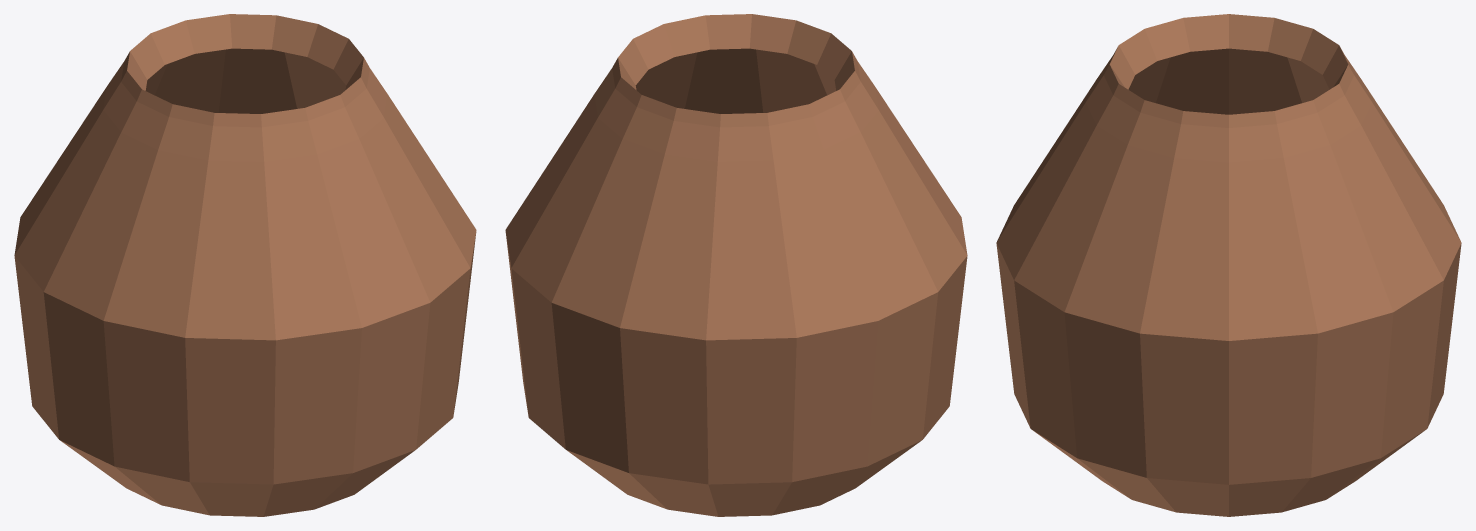
Rendered from jar.glb.
3 views of the same model, side by side, from view 1: azimuth 30°, elevation 25°; view 2: azimuth 150°, elevation 25°; view 3: azimuth 270°, elevation 25° (orthographic).
Visible parts, largest first — view 1: jar; view 2: jar; view 3: jar.
Boxes of the visible parts, bbox=[...] form: jar: bbox=[14, 14, 476, 516]; jar: bbox=[505, 14, 967, 516]; jar: bbox=[996, 14, 1461, 516].
Size of the model in its own units: 0.78 by 0.73 by 0.78.
